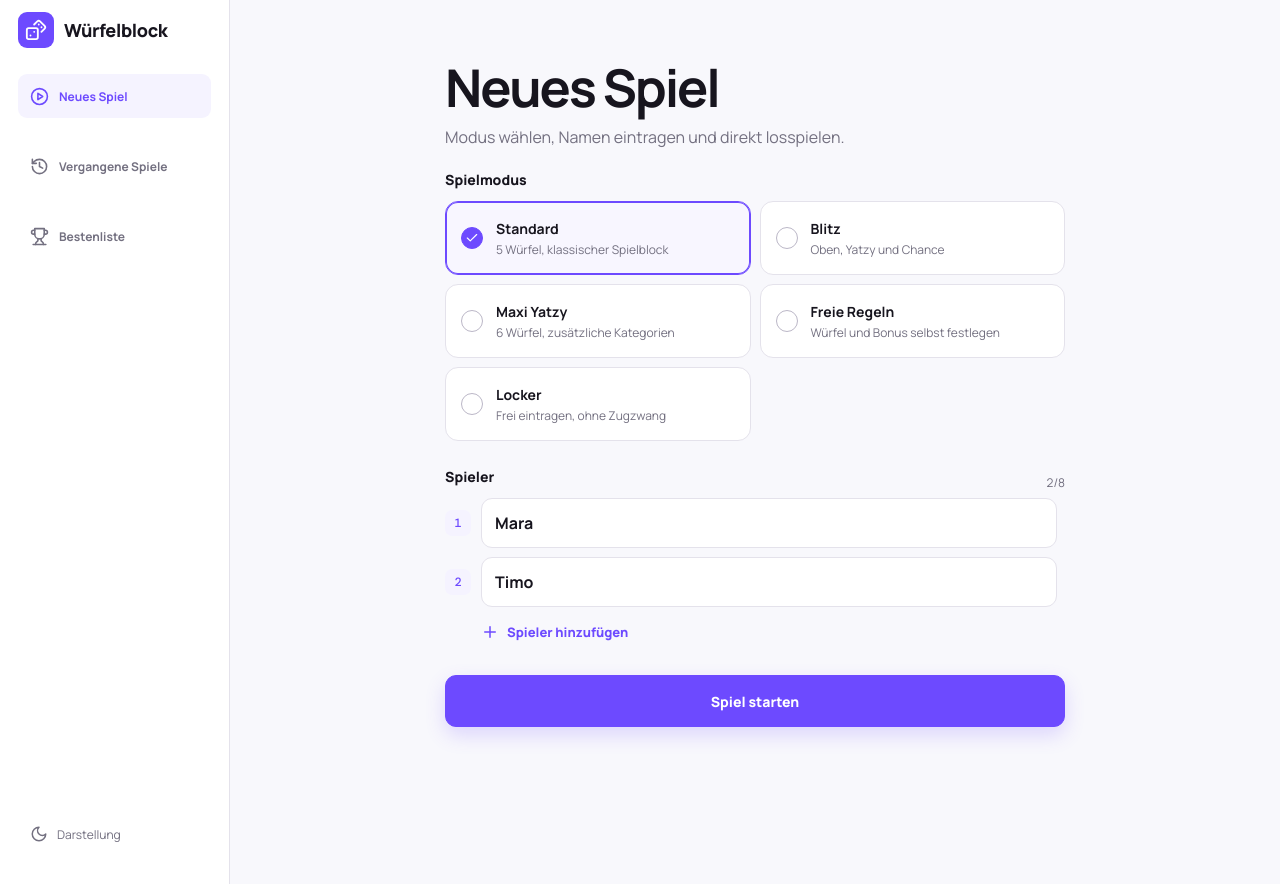
Scenario: complete gameplay › configures free rules and prevents duplicate names
The width and height of the screenshot is (1280, 884).
Click the button "Freie Regeln Würfel und Bonus selbst festlegen". click: click(912, 321)
box: 760,284 -> 1065,358
(page scrolled)
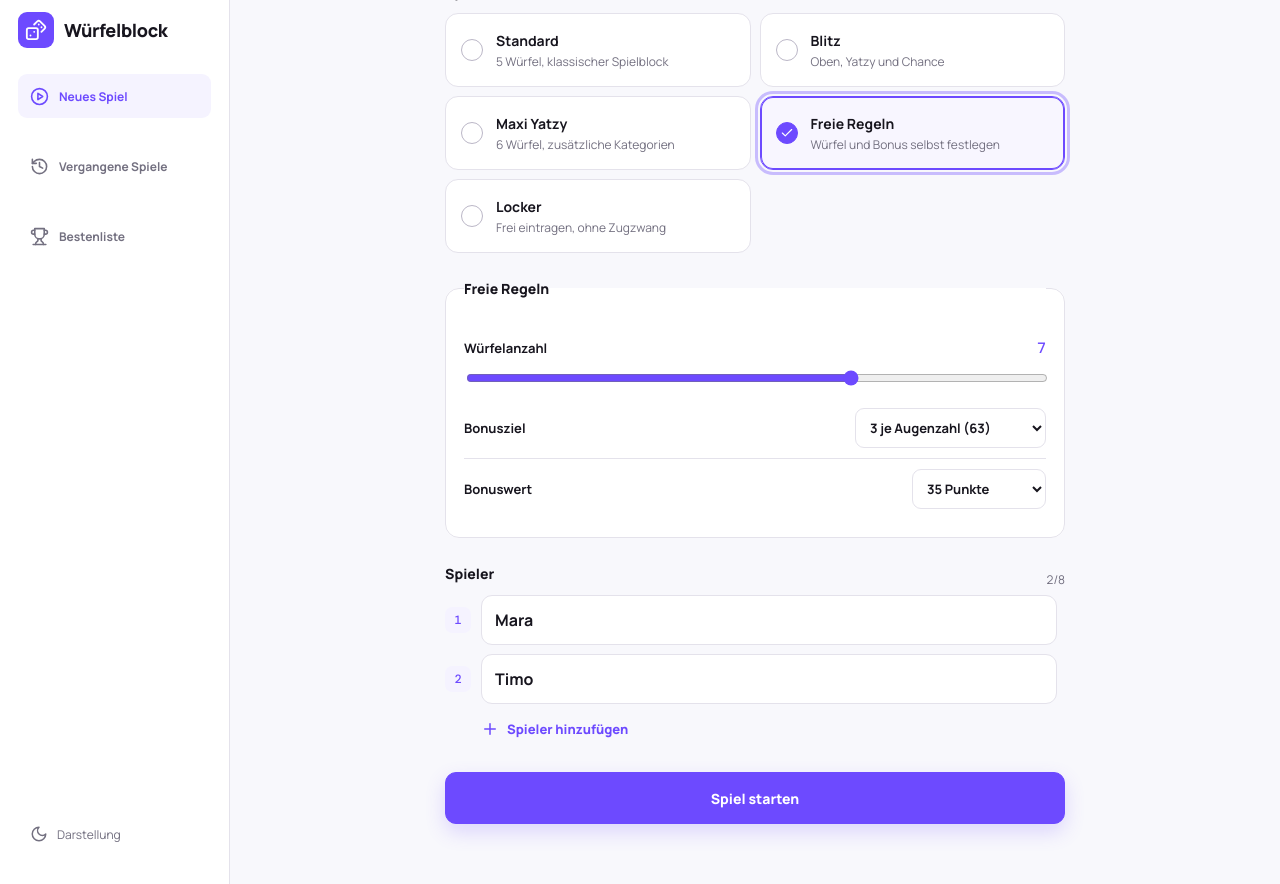
Replace the text in the field named "name von spieler" with "mara". click: (769, 679)
box: 481,654 -> 1057,704
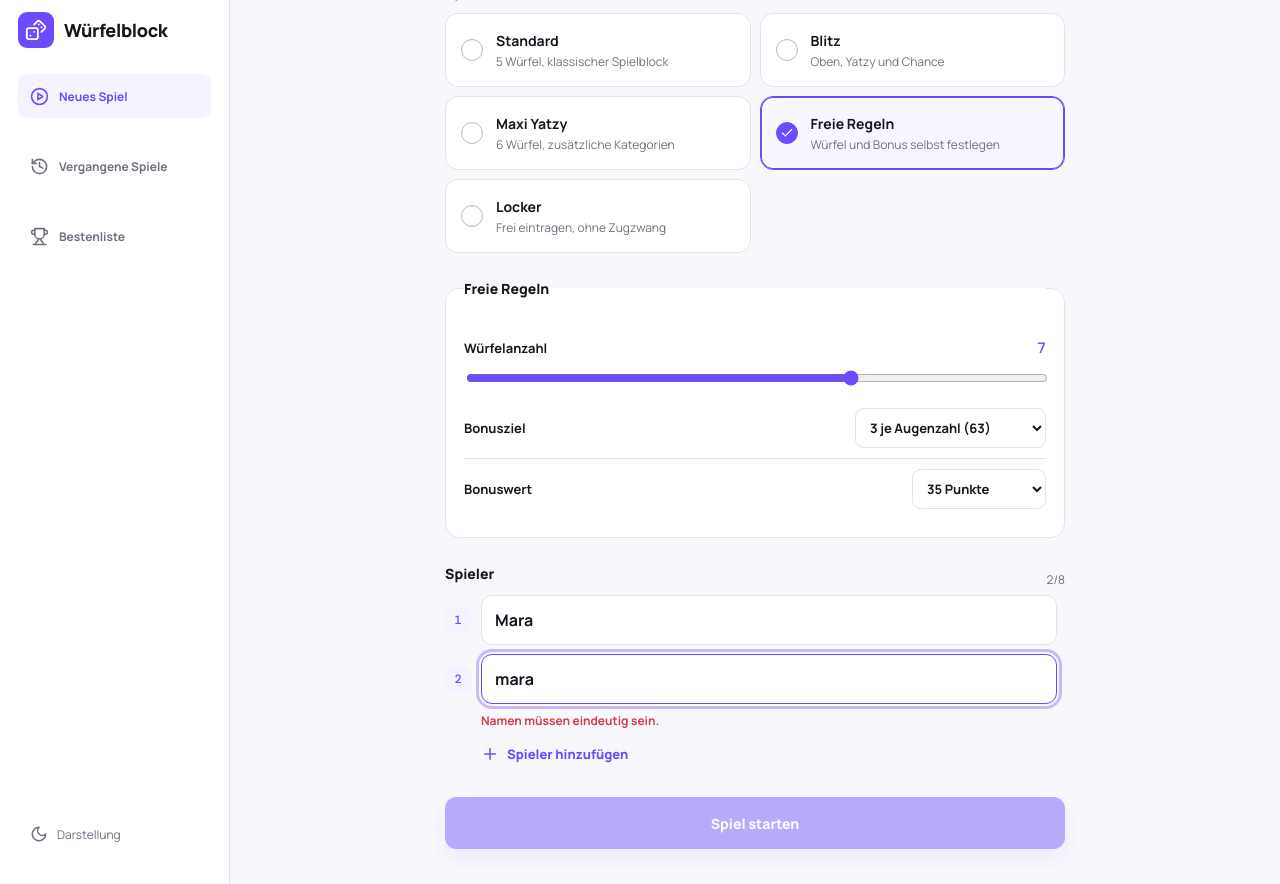
Expected: the button "Spiel starten" is disabled, 445,797 -> 1065,849
Expected: the slider labelled "Würfelanzahl" holds "7", 466,370 -> 1048,386
Expected: the text "Namen müssen eindeutig sein." is shown, 481,712 -> 659,729
